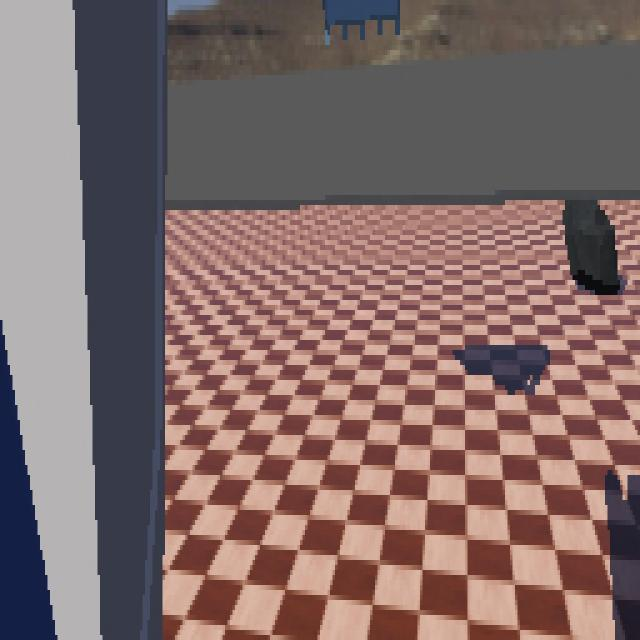rock: (562, 192, 622, 300)
